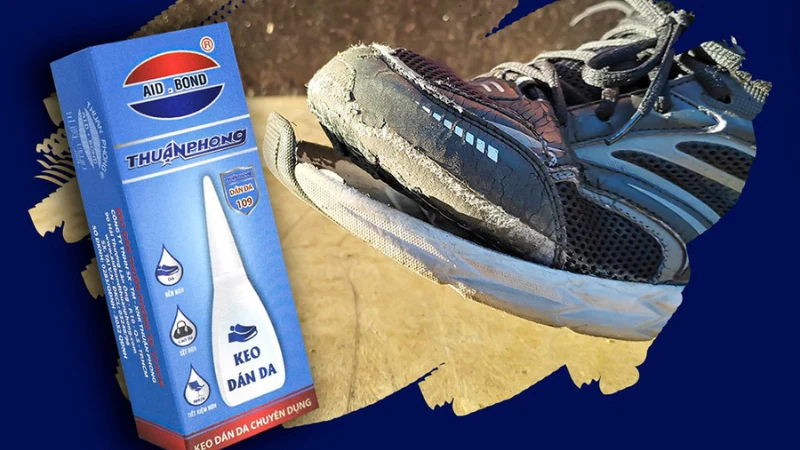bonding: (280, 92, 523, 266)
